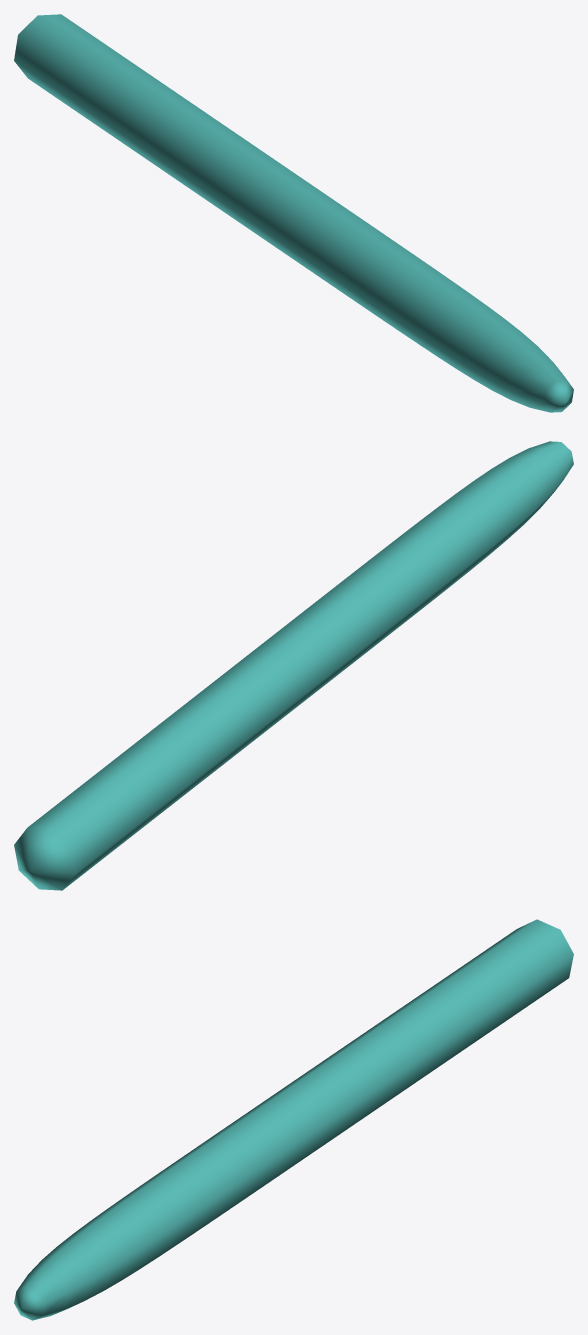
3 views of the same model, one above another, from view 1: azimuth 30°, elevation 25°; view 2: azimuth 150°, elevation 25°; view 3: azimuth 330°, elevation 25° (orthographic).
Visible parts, largest first — view 1: brush_Disco_g0_b0; view 2: brush_Disco_g0_b0; view 3: brush_Disco_g0_b0.
Part boxes in pixels (x1,y1,x2,y2): brush_Disco_g0_b0: (14,14,573,412); brush_Disco_g0_b0: (14,441,573,890); brush_Disco_g0_b0: (14,919,573,1320).
Size of the model in its own units: 0.483 by 0.6376 by 7.28.
